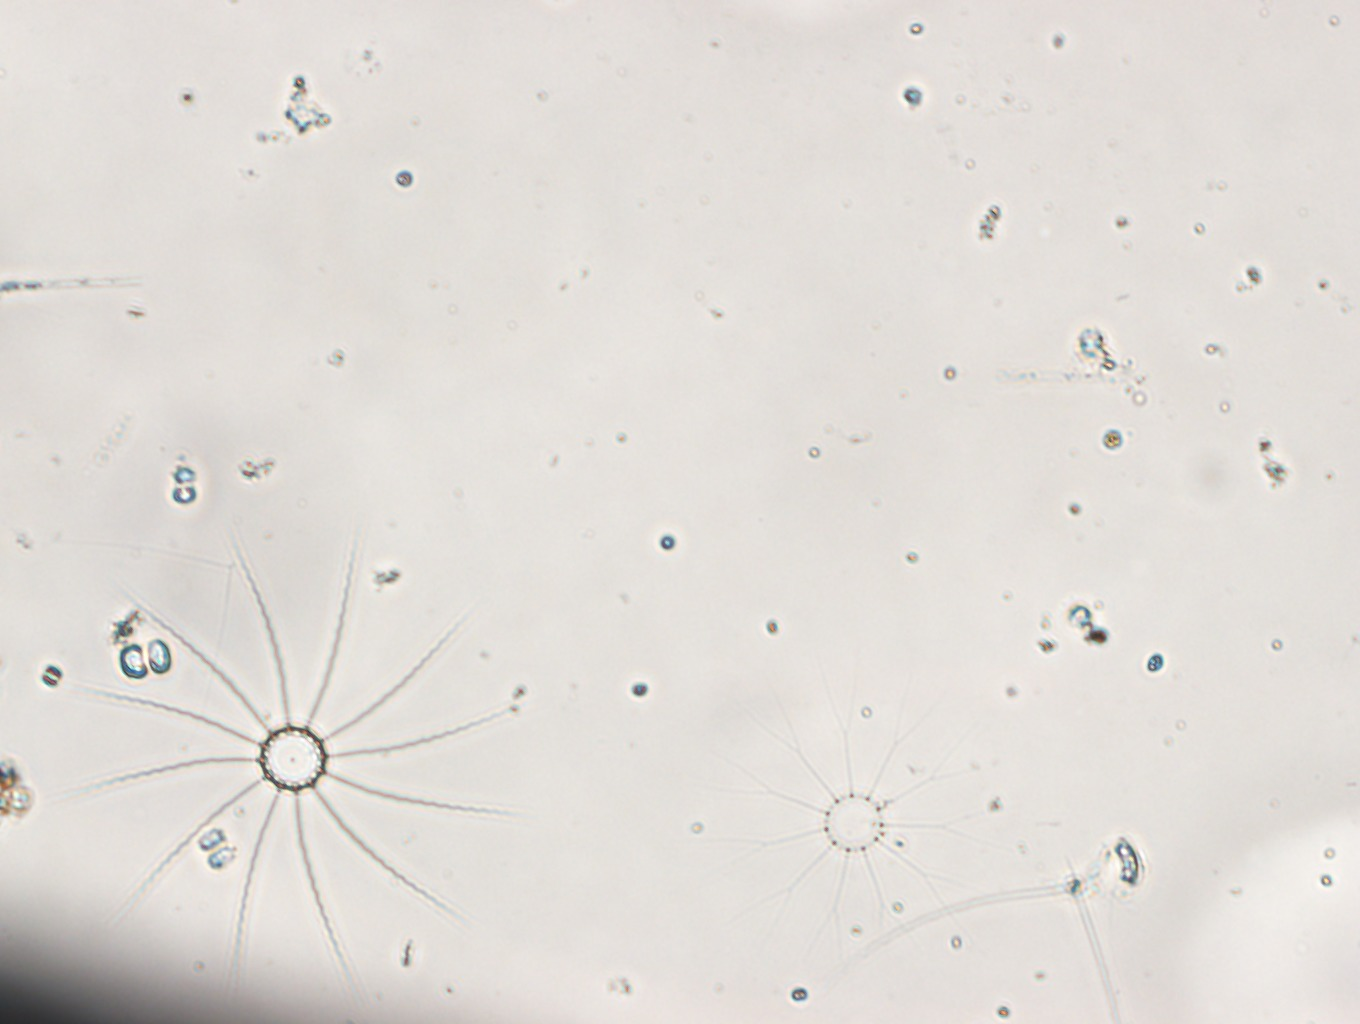bacteriastrum: (57, 534, 516, 995), (711, 662, 993, 955)
